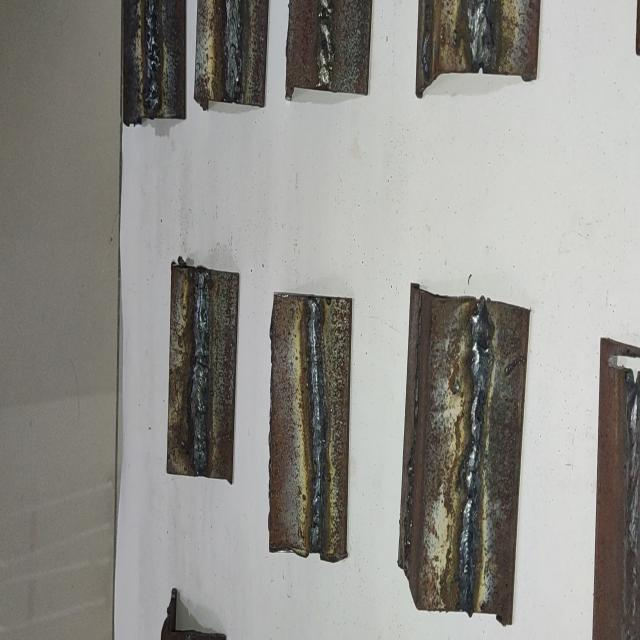Bad Weld: (459, 308, 492, 612), (144, 0, 163, 116), (317, 0, 333, 92)
Defect: (457, 314, 493, 606), (144, 0, 161, 118), (317, 0, 333, 88)
Good Weld: (306, 300, 326, 551), (192, 273, 208, 475), (225, 0, 243, 101)
